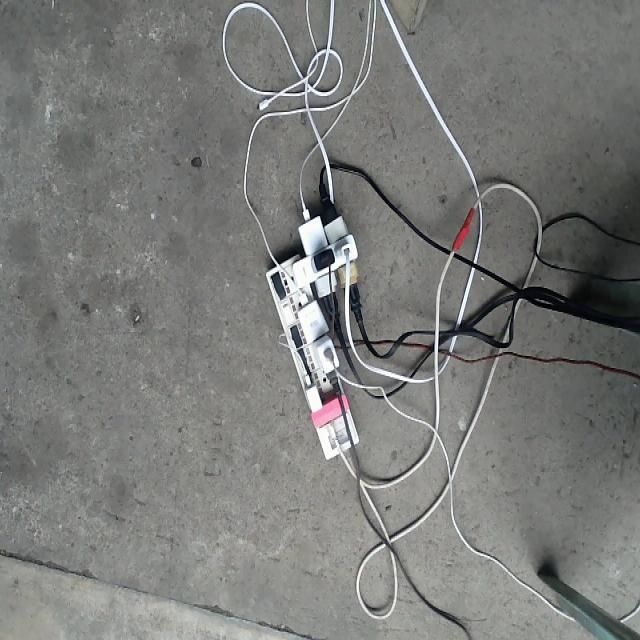-: (262, 200, 367, 461)
